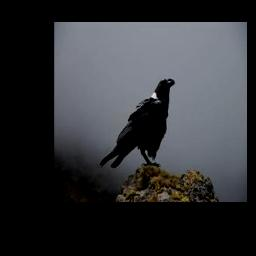Crow: (98, 73, 175, 172)
